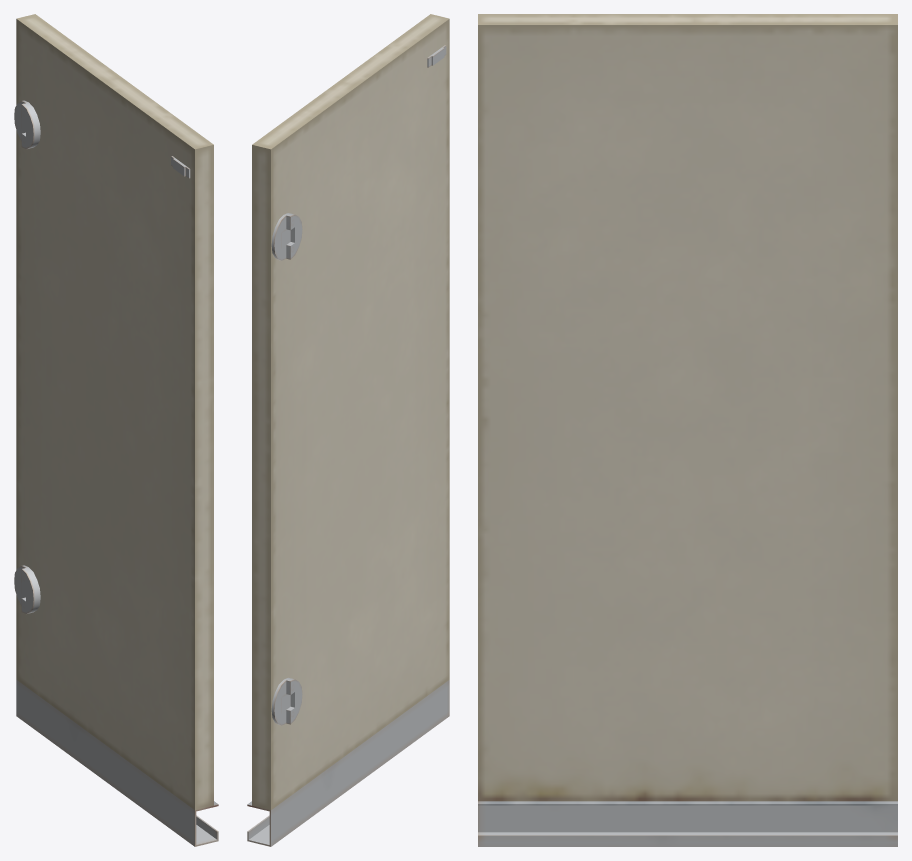
The model's file is FurnitureKicthen02_DoorUpRight01.FBX.
3 renders of one model, left to right at view 1: azimuth 30°, elevation 25°; view 2: azimuth 150°, elevation 25°; view 3: azimuth 270°, elevation 25°, orthographic. The views are drawn at different scales.
Parts seen in each view (by area): view 1: FurnitureKicthen02_DoorUpRight01; view 2: FurnitureKicthen02_DoorUpRight01; view 3: FurnitureKicthen02_DoorUpRight01.
Boxes of the visible parts, x1,y1,x2,y2 form: FurnitureKicthen02_DoorUpRight01: (14, 14, 218, 846); FurnitureKicthen02_DoorUpRight01: (247, 14, 449, 846); FurnitureKicthen02_DoorUpRight01: (478, 14, 897, 846).
Size of the model in its own units: 3.24 by 32.5 by 70.
